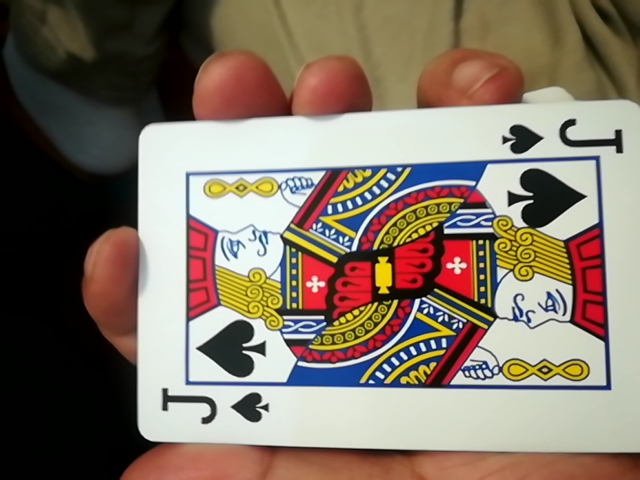ht j: (127, 106, 632, 460)
